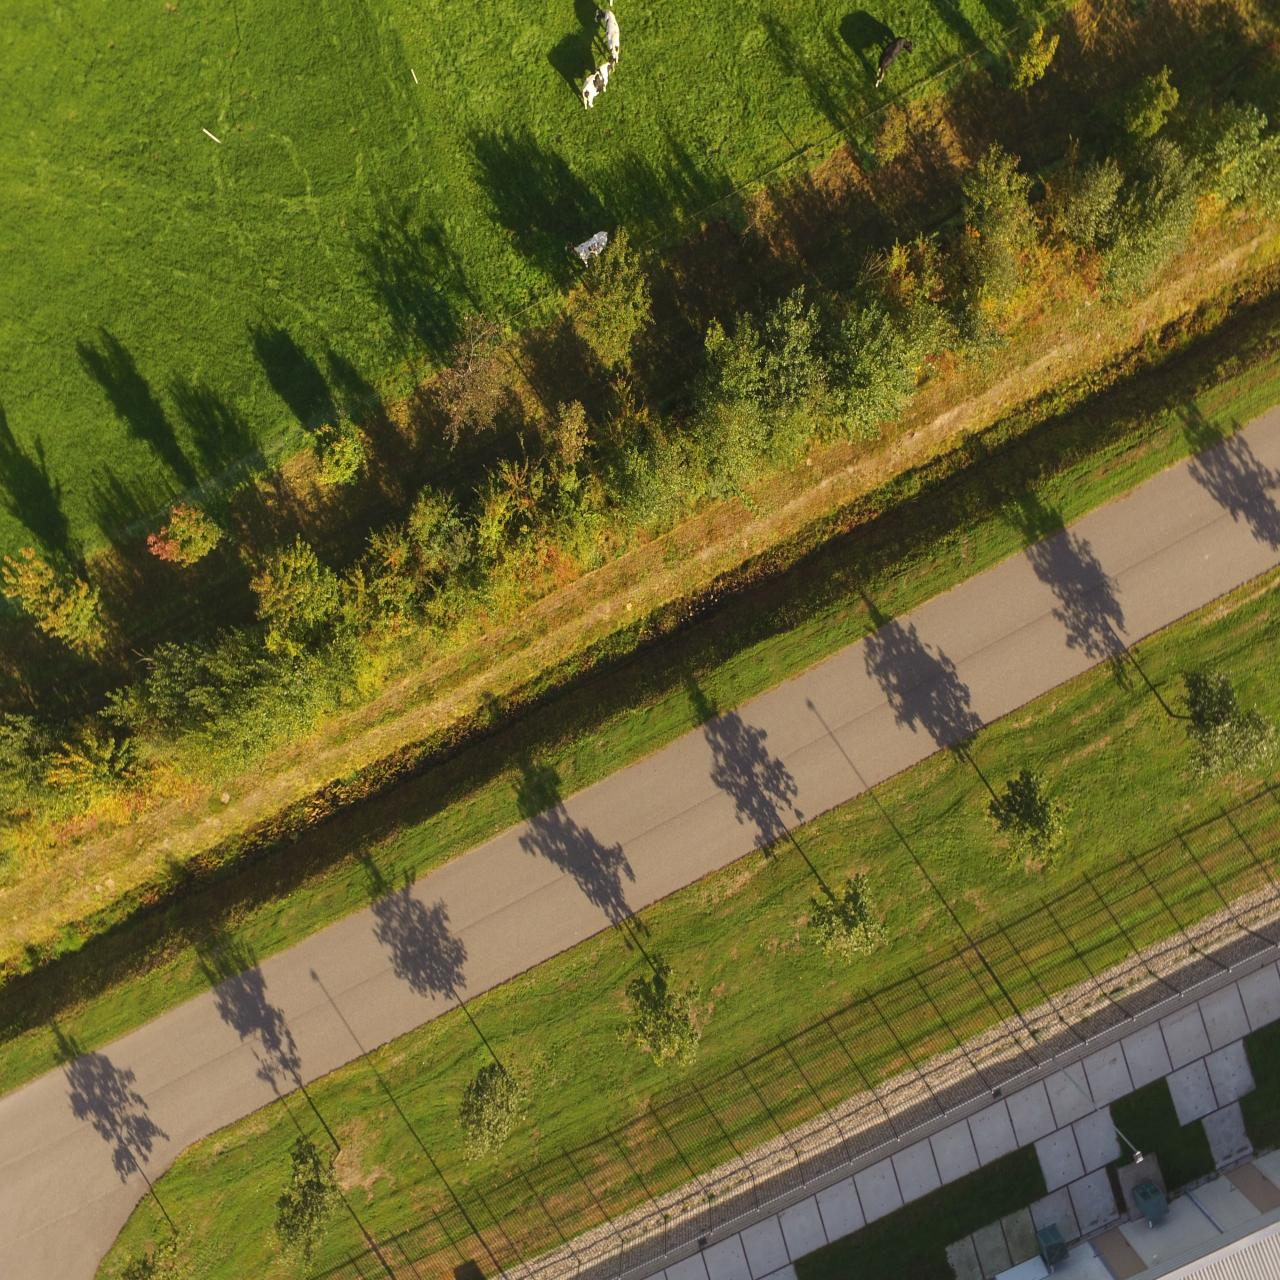cow: (870, 34, 919, 89), (580, 59, 615, 111), (561, 225, 606, 266), (592, 5, 620, 63)
